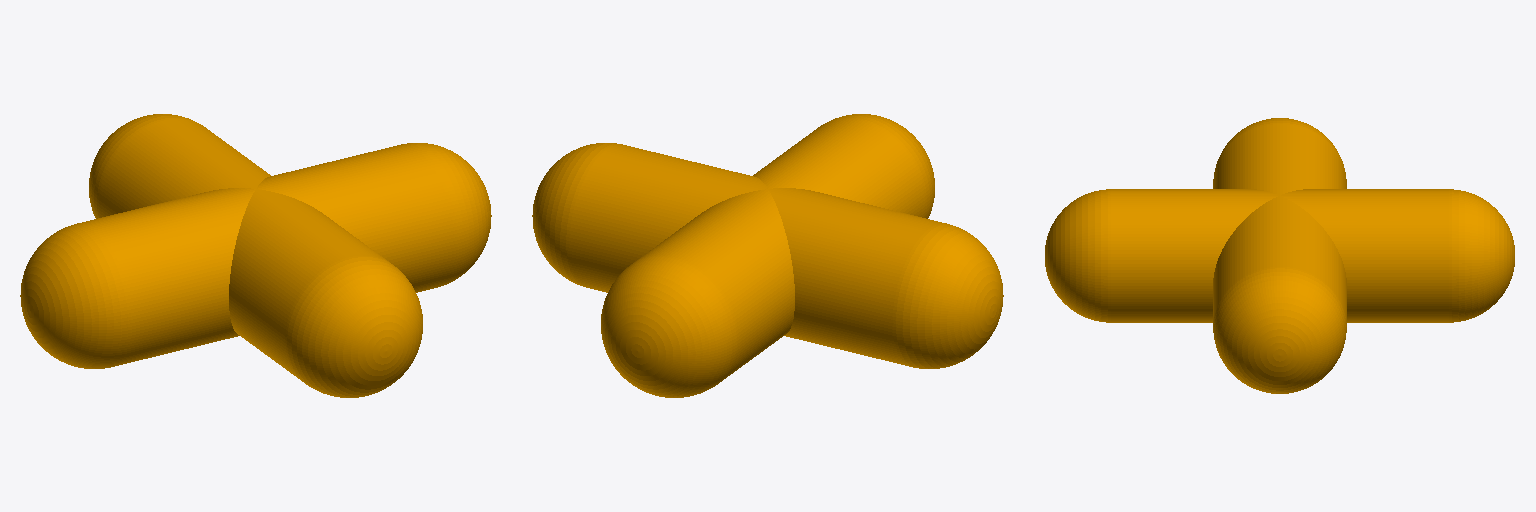
The robot description file, URDF, robot "object":
<?xml version="1.0"?>
<robot name="object">
  <link name="object">
    <visual>
      <origin xyz="0 0 0"/>
      <geometry>
        <mesh filename="meshes/non-convex-param/cross4_3.obj" scale=".08 .08 .08"/>
      </geometry>
    </visual>
    <collision>
  <origin xyz="0 0 0"/>
  <geometry>
    <mesh filename="meshes/non-convex-param/cross4_3_0decompose.obj" scale=".08 .08 .08"/>
<!--          <mesh filename="meshes/custom/obj0_ball.obj" scale=".05 .05 .05"/>-->
  </geometry>
</collision><collision>
  <origin xyz="0 0 0"/>
  <geometry>
    <mesh filename="meshes/non-convex-param/cross4_3_1decompose.obj" scale=".08 .08 .08"/>
<!--          <mesh filename="meshes/custom/obj0_ball.obj" scale=".05 .05 .05"/>-->
  </geometry>
</collision><collision>
  <origin xyz="0 0 0"/>
  <geometry>
    <mesh filename="meshes/non-convex-param/cross4_3_2decompose.obj" scale=".08 .08 .08"/>
<!--          <mesh filename="meshes/custom/obj0_ball.obj" scale=".05 .05 .05"/>-->
  </geometry>
</collision><collision>
  <origin xyz="0 0 0"/>
  <geometry>
    <mesh filename="meshes/non-convex-param/cross4_3_3decompose.obj" scale=".08 .08 .08"/>
<!--          <mesh filename="meshes/custom/obj0_ball.obj" scale=".05 .05 .05"/>-->
  </geometry>
</collision><collision>
  <origin xyz="0 0 0"/>
  <geometry>
    <mesh filename="meshes/non-convex-param/cross4_3_4decompose.obj" scale=".08 .08 .08"/>
<!--          <mesh filename="meshes/custom/obj0_ball.obj" scale=".05 .05 .05"/>-->
  </geometry>
</collision>

<!--    <collision>-->
<!--      <origin xyz="0 0 0"/>-->
<!--      <geometry>-->
<!--        <mesh filename="meshes/non-convex-param/cross4_3.obj" scale=".03 .03 .03"/>-->
<!--&lt;!&ndash;          <mesh filename="meshes/custom/obj0_ball.obj" scale=".05 .05 .05"/>&ndash;&gt;-->
<!--      </geometry>-->
<!--    </collision>-->
    <inertial>
      <density value="1000.0"/>
    </inertial>
  </link>
</robot>

--- What the picture shows (computed from the rendered views, not written in the file) ---
3 views of the same robot in one strip: view 1: azimuth 30°, elevation 25°; view 2: azimuth 150°, elevation 25°; view 3: azimuth 270°, elevation 25° (orthographic).
Model object with 1 links and 0 joints (none), rooted at object, posed every joint at zero.
Visible links, largest first — view 1: object; view 2: object; view 3: object.
Boxes of the visible links, <box> form: object: <box>20,114,491,397</box>; object: <box>532,114,1003,397</box>; object: <box>1045,118,1514,393</box>.
Bounding box of the posed robot: 0.1117 × 0.1117 × 0.0317 m (x, y, z).
Meshes: 1 distinct files referenced, 1 mesh visuals loaded (1 OBJ).